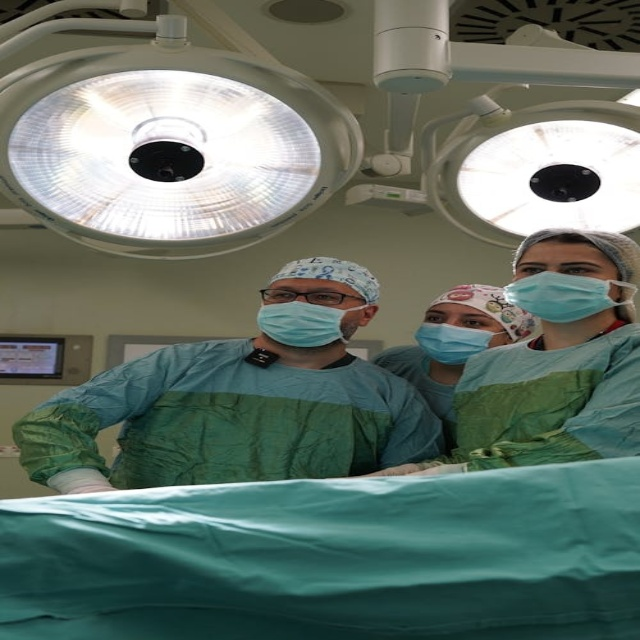Gafas: (260, 288, 366, 306)
Guantes: (35, 461, 128, 495), (359, 461, 449, 477)
Mascara: (504, 272, 635, 323), (255, 299, 362, 347), (415, 321, 505, 364)
Sin_gafas: (512, 257, 604, 279), (424, 307, 493, 329)
